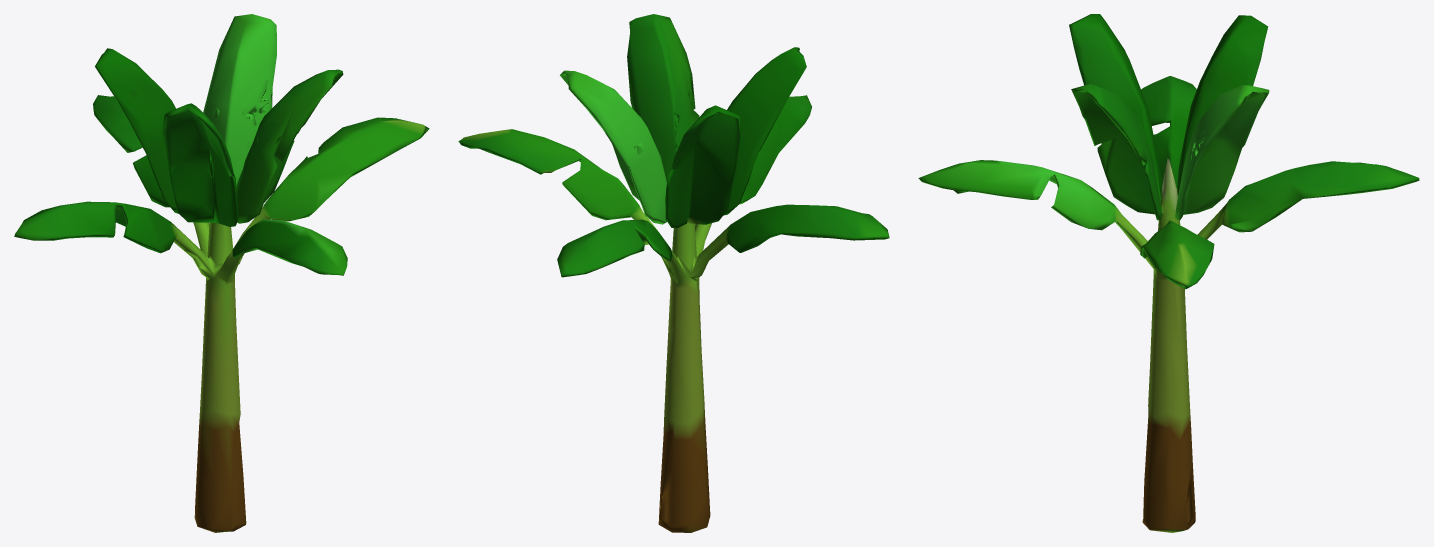
Rendered from gen3d-banana-plant-lod0.glb.
The picture shows the model from 3 angles, left to right: view 1: azimuth 30°, elevation 25°; view 2: azimuth 150°, elevation 25°; view 3: azimuth 270°, elevation 25°; orthographic projection. The views are drawn at different scales.
Parts seen in each view (by area): view 1: part_0; view 2: part_0; view 3: part_0.
Boxes of the visible parts, x1,y1,x2,y2 form: part_0: [14, 14, 429, 532]; part_0: [458, 14, 889, 532]; part_0: [918, 14, 1419, 532].
Bounding box in the file's own units: 0.9548 × 1 × 0.9585.
